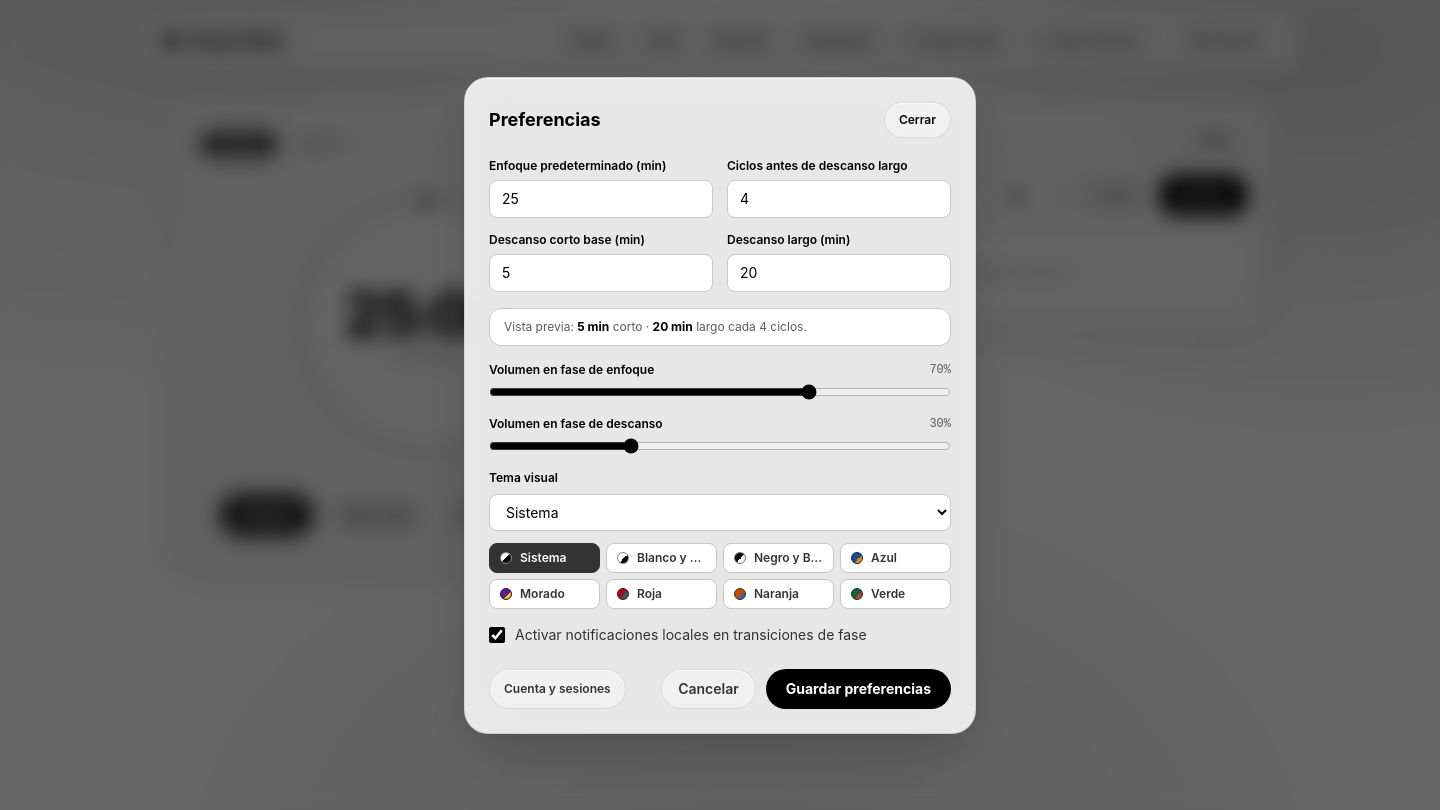
Test case: UI Components Security & Input Validation › keeps at most one active modal open and blocks Space shortcut while any modal is open
Earlier steps of the test are not shown.
Later steps or results of the test are not shown.
expect the heading "Preferencias" is shown: met, box [489, 106, 601, 134]
Click the button "Cuenta y sesiones" at (557, 688), box [489, 668, 626, 708]
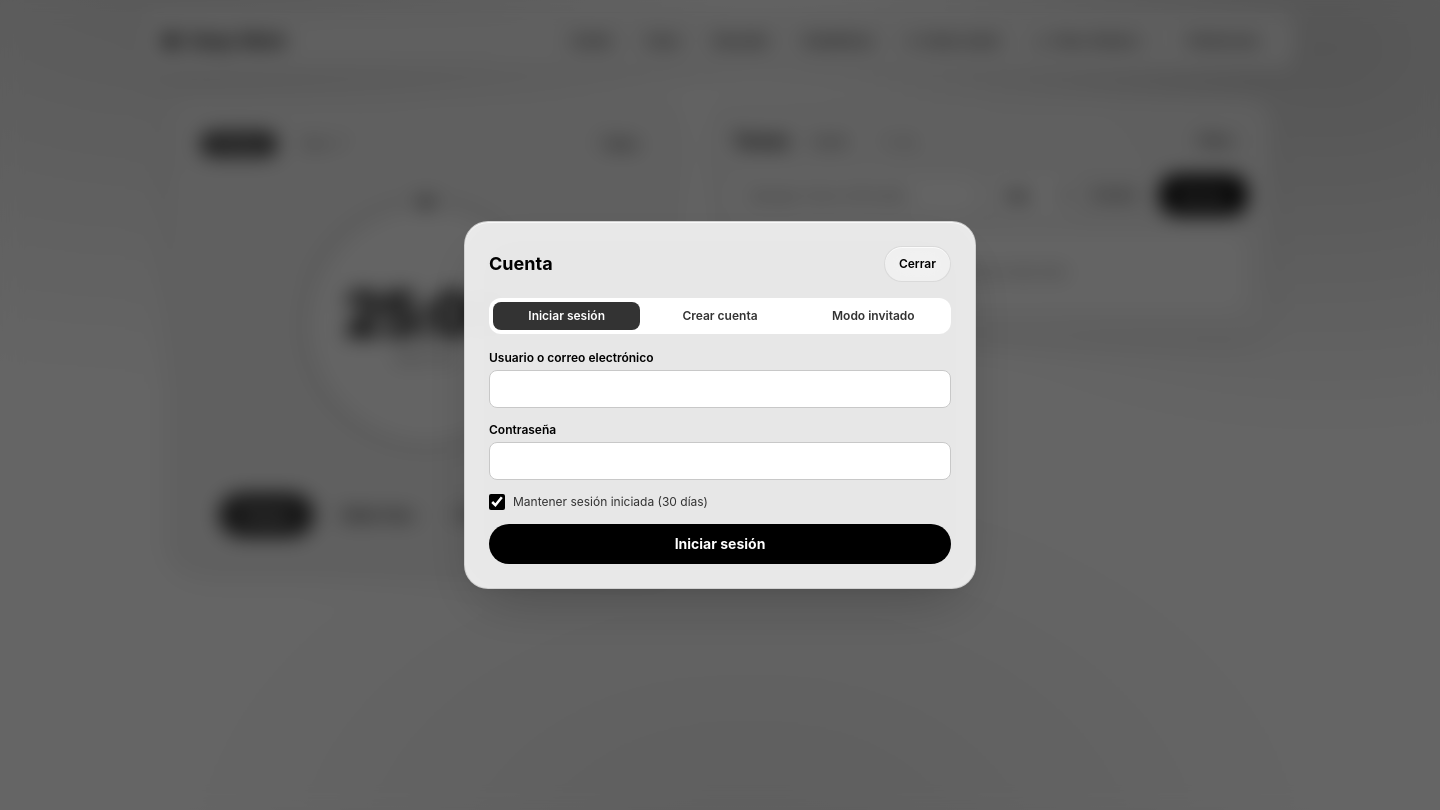
expect the number of dialogs is 1: met
expect the heading "Cuenta" is shown: met, box [489, 250, 553, 278]
Press Escape
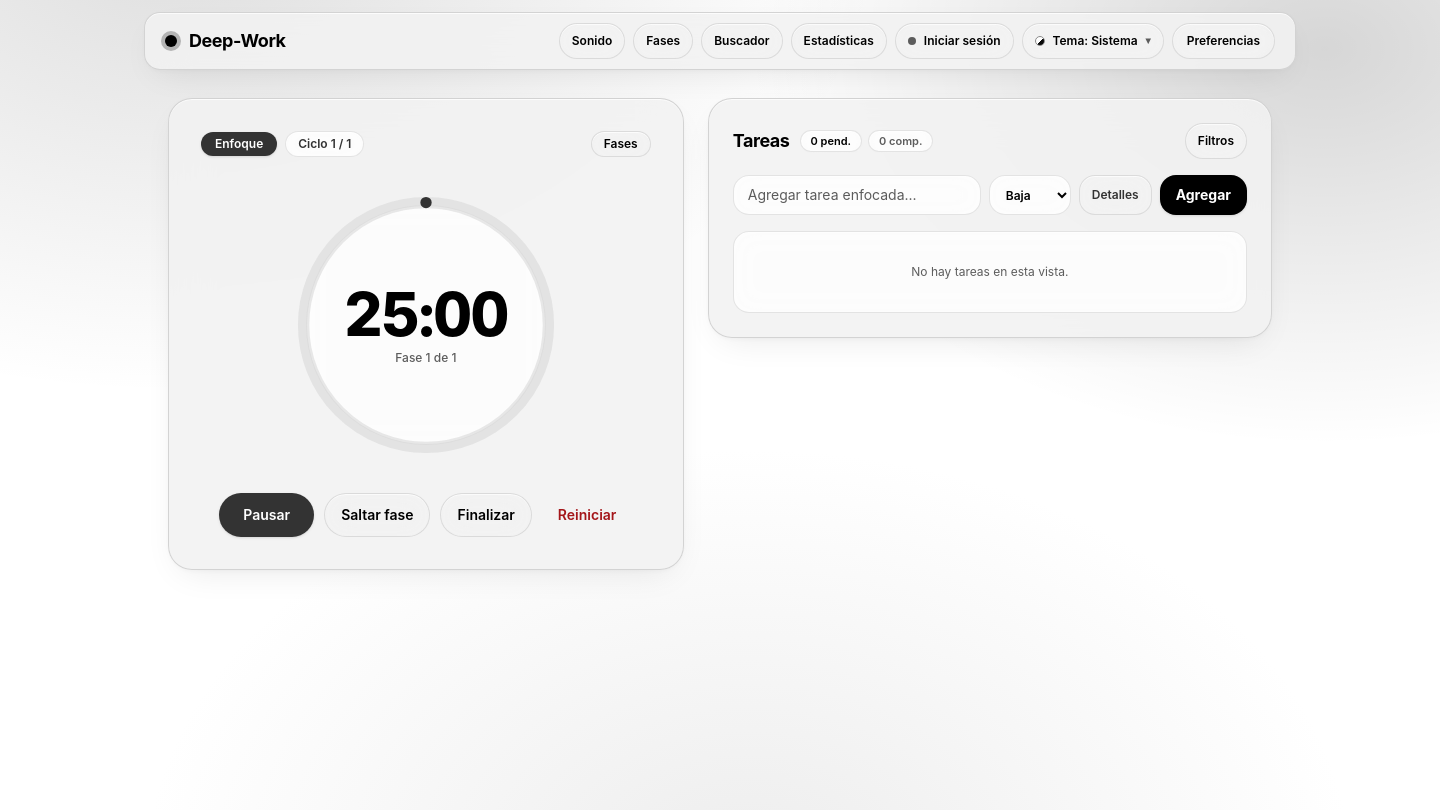
expect the dialog is gone: met
Click the button "Sonido" at (592, 41), box [559, 23, 625, 59]
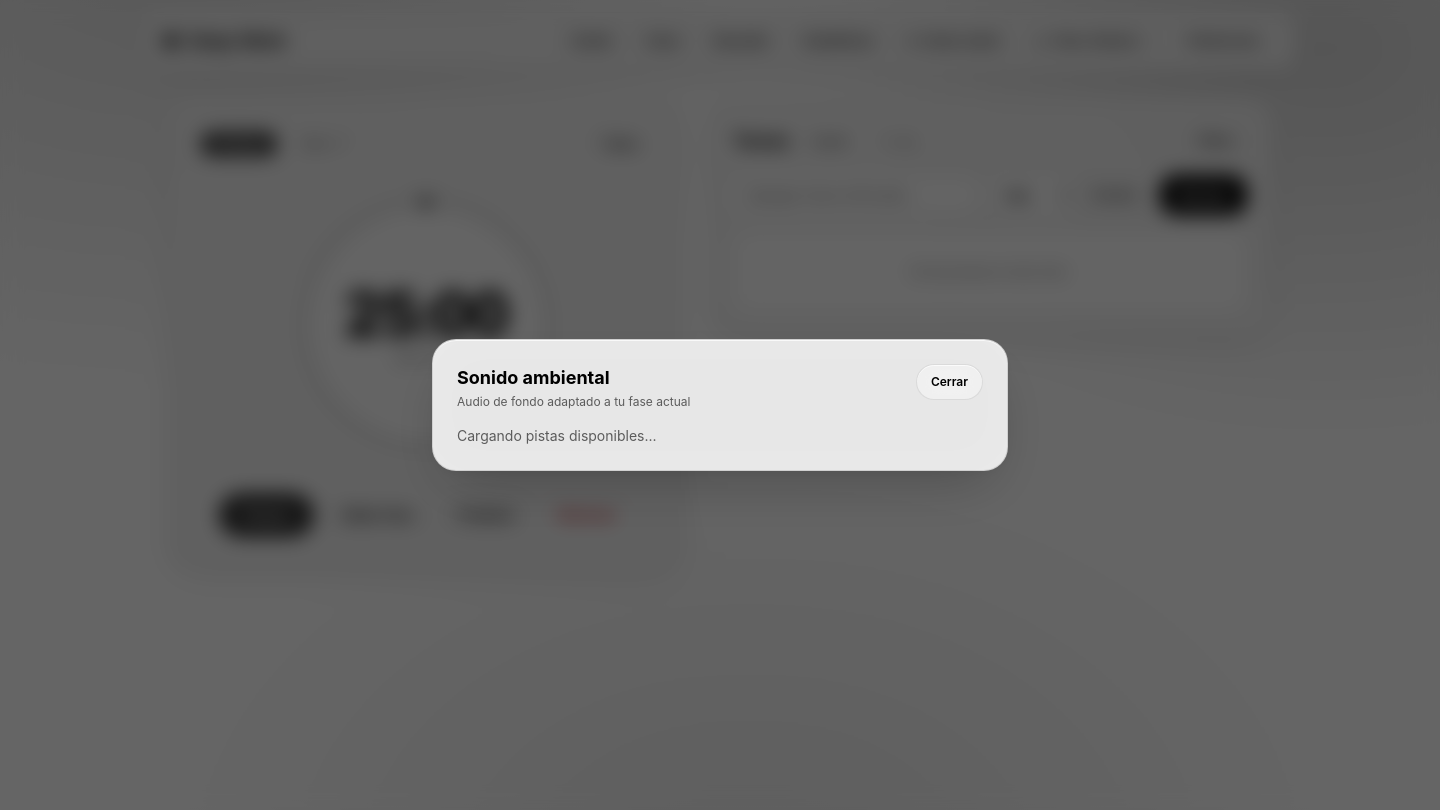
expect the number of dialogs is 1: met
Press Space
Press Escape
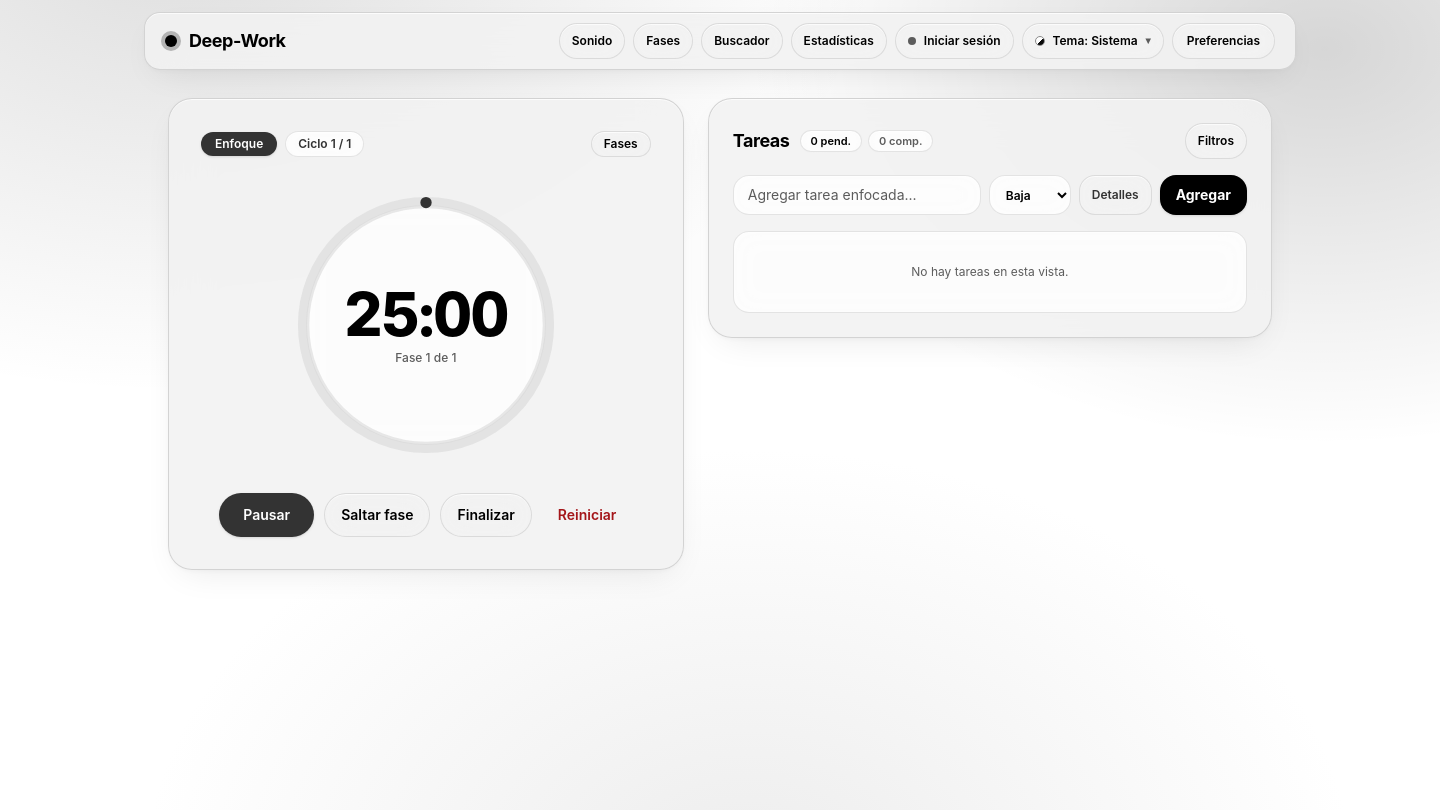
expect the dialog is gone: met
Click the button "Estadísticas" at (839, 41), box [791, 23, 887, 59]
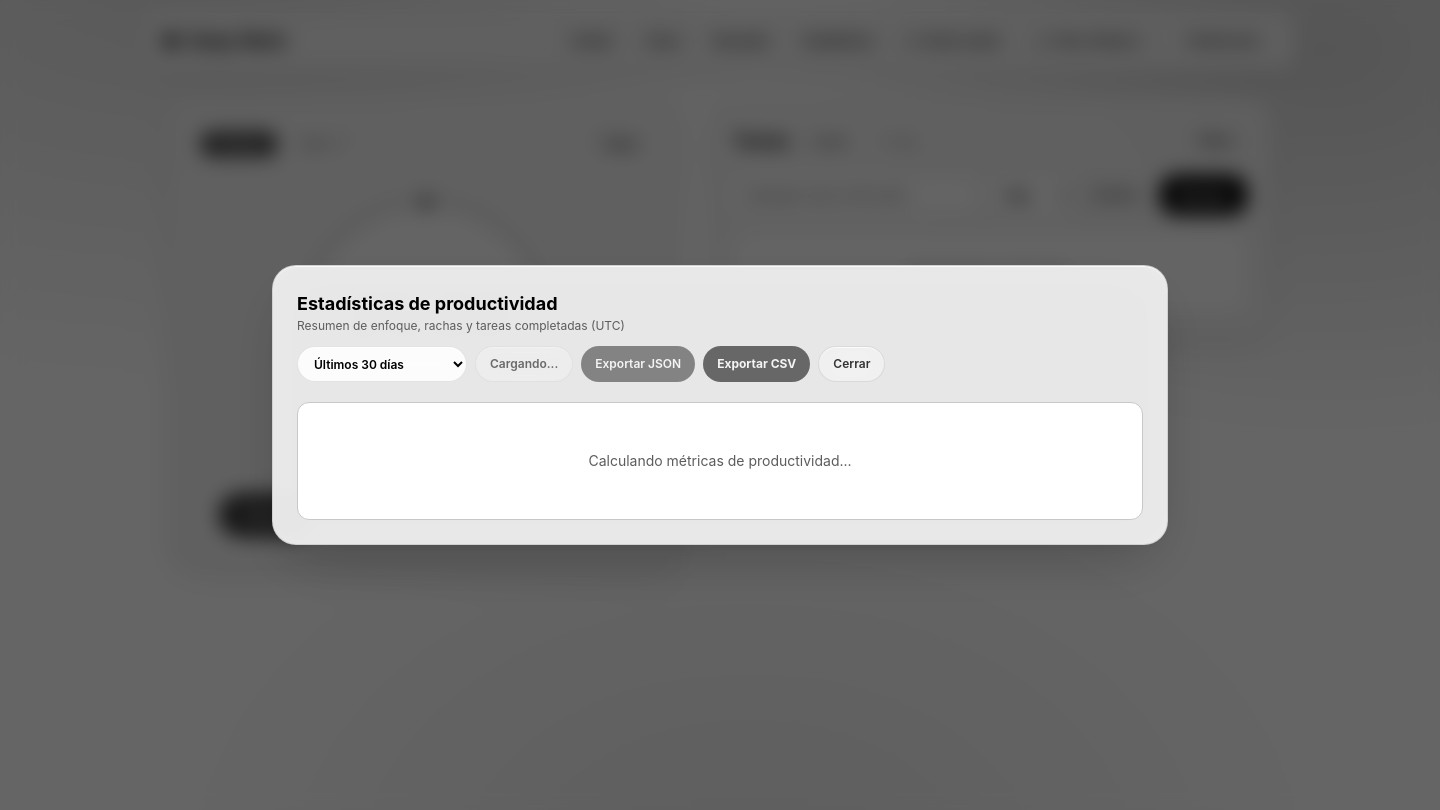
expect the number of dialogs is 1: met
Press Space
Press Escape
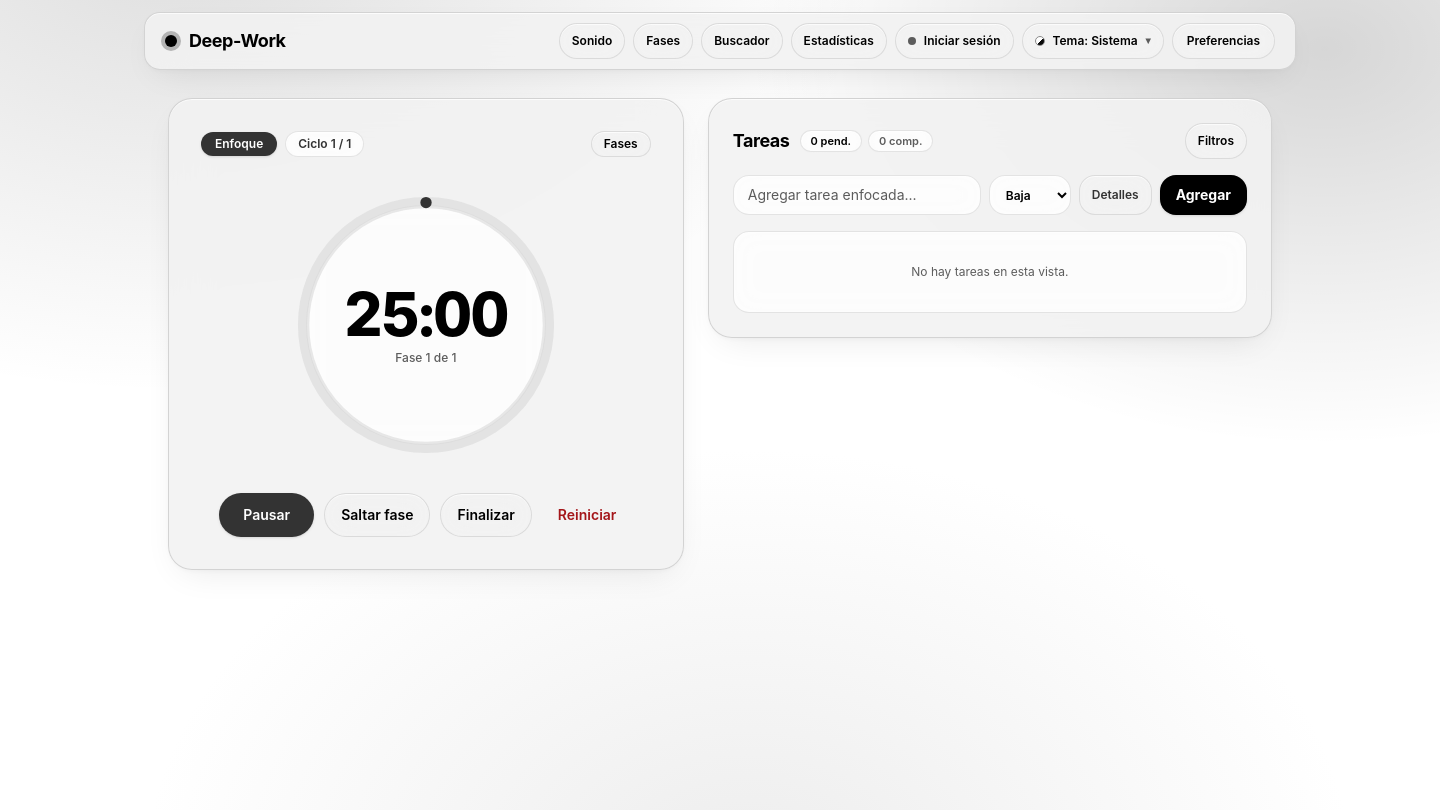
expect the dialog is gone: met
